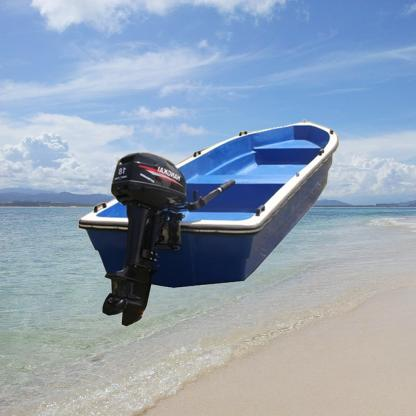boat: (92, 120, 338, 271)
